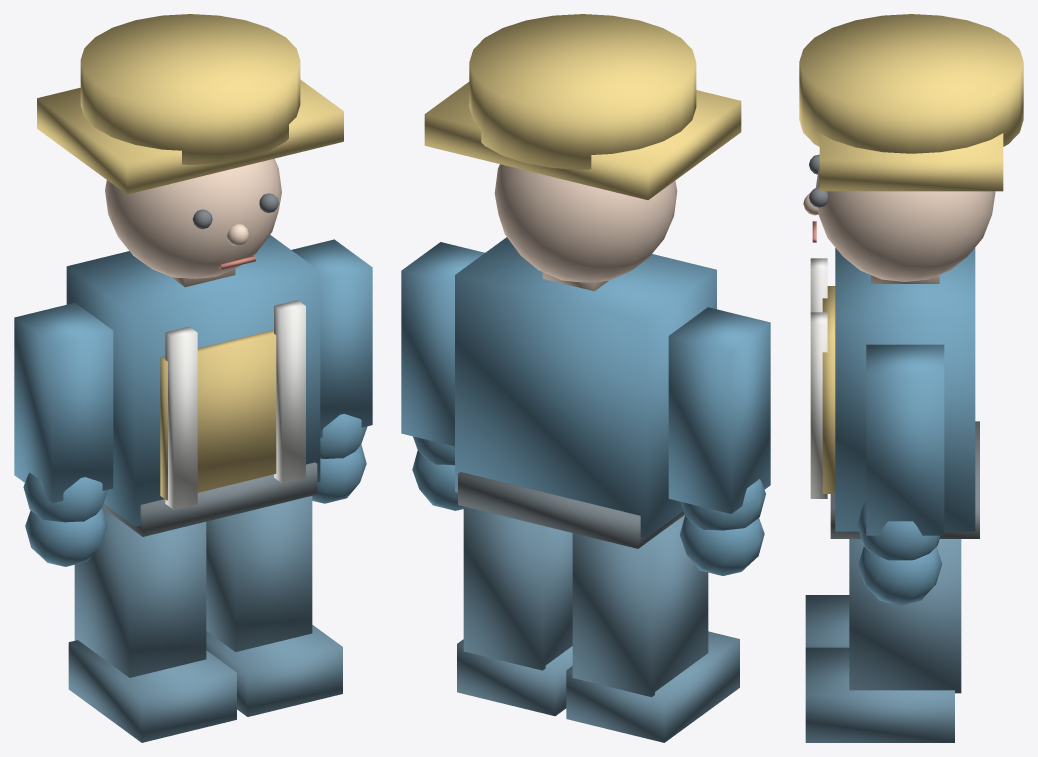
The model's file is mercy_worker.glb.
3 views of the same model, side by side, from view 1: azimuth 30°, elevation 25°; view 2: azimuth 150°, elevation 25°; view 3: azimuth 270°, elevation 25° (orthographic). The views are drawn at different scales.
Visible parts, largest first — view 1: Leg_Left, Hardhat_Dome, Body_Torso, Arm_Left, Leg_Right, Head, Arm_Right, Body_ReflectiveVest, Helmet, Reflector_-0.205, Reflector_0.205, Belt; view 2: Body_Torso, Hardhat_Dome, Leg_Left, Arm_Left, Leg_Right, Head, Arm_Right, Helmet, Belt; view 3: Hardhat_Dome, Leg_Right, Body_Torso, Arm_Right, Head, Helmet, Reflector_0.205, Body_ReflectiveVest, Leg_Left, Belt, Reflector_-0.205.
Boxes of the visible parts, bbox=[...] form: Leg_Left: bbox=[68, 507, 236, 742]; Hardhat_Dome: bbox=[80, 14, 300, 164]; Body_Torso: bbox=[66, 235, 320, 526]; Arm_Left: bbox=[14, 303, 113, 566]; Leg_Right: bbox=[206, 496, 342, 716]; Head: bbox=[105, 158, 281, 278]; Arm_Right: bbox=[291, 239, 372, 503]; Body_ReflectiveVest: bbox=[160, 330, 276, 500]; Helmet: bbox=[37, 79, 343, 194]; Reflector_-0.205: bbox=[165, 326, 197, 509]; Reflector_0.205: bbox=[274, 300, 305, 483]; Belt: bbox=[102, 462, 317, 536]; Body_Torso: bbox=[455, 237, 716, 538]; Hardhat_Dome: bbox=[469, 14, 696, 169]; Leg_Left: bbox=[566, 515, 739, 742]; Arm_Left: bbox=[668, 307, 770, 575]; Leg_Right: bbox=[457, 506, 572, 716]; Head: bbox=[494, 164, 677, 282]; Arm_Right: bbox=[401, 242, 484, 510]; Helmet: bbox=[424, 82, 741, 199]; Belt: bbox=[458, 472, 684, 548]; Hardhat_Dome: bbox=[799, 14, 1023, 153]; Leg_Right: bbox=[805, 539, 961, 742]; Body_Torso: bbox=[835, 247, 975, 531]; Arm_Right: bbox=[857, 344, 944, 605]; Head: bbox=[815, 167, 995, 281]; Helmet: bbox=[819, 133, 1003, 191]; Reflector_0.205: bbox=[810, 312, 827, 498]; Body_ReflectiveVest: bbox=[822, 286, 835, 493]; Leg_Left: bbox=[805, 595, 849, 647]; Belt: bbox=[830, 421, 979, 538]; Reflector_-0.205: bbox=[810, 258, 827, 312].
Bounding box in the file's own units: 1.26 × 2.24 × 0.72.
